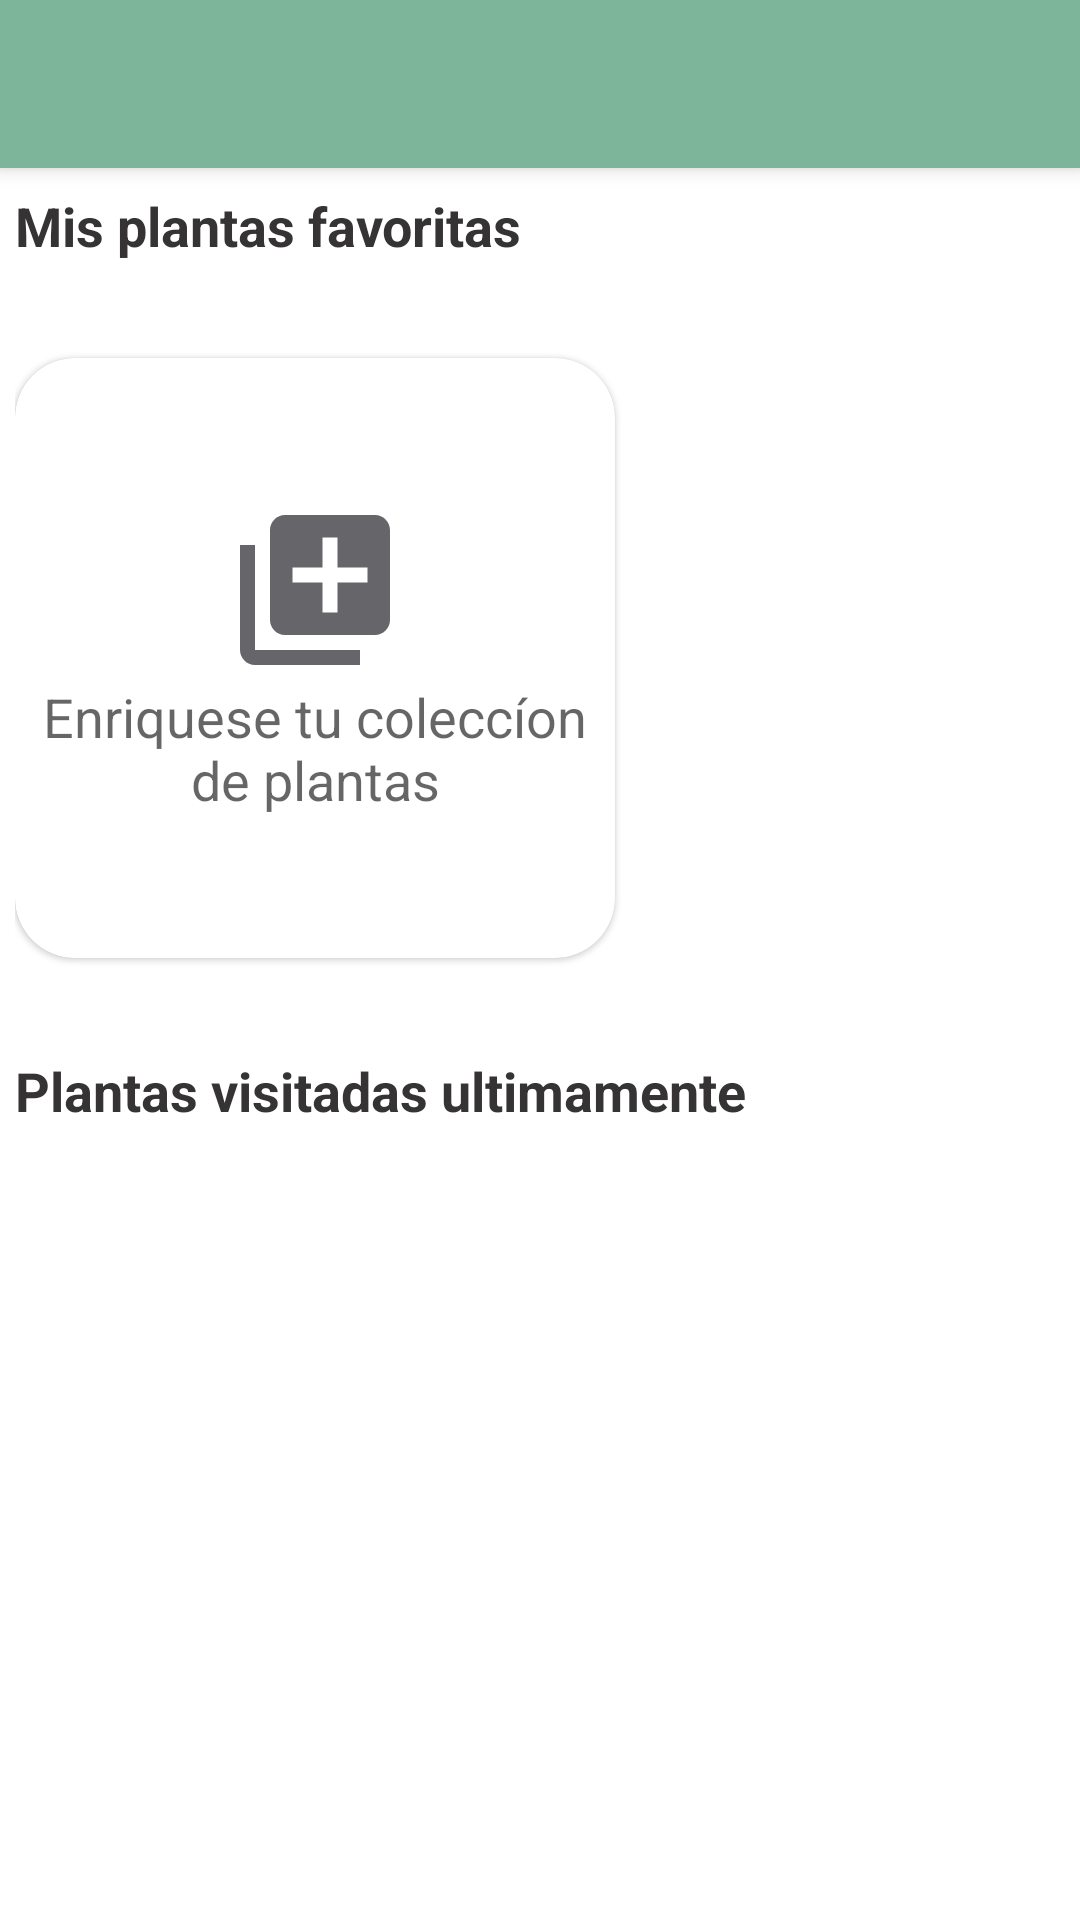

Locate icon controls on the screen. Image size 1080x1920, boxes as [x1=x1, y1=y1, x2=x2, y2=y2].
library add: [x1=240, y1=515, x2=390, y2=665]
